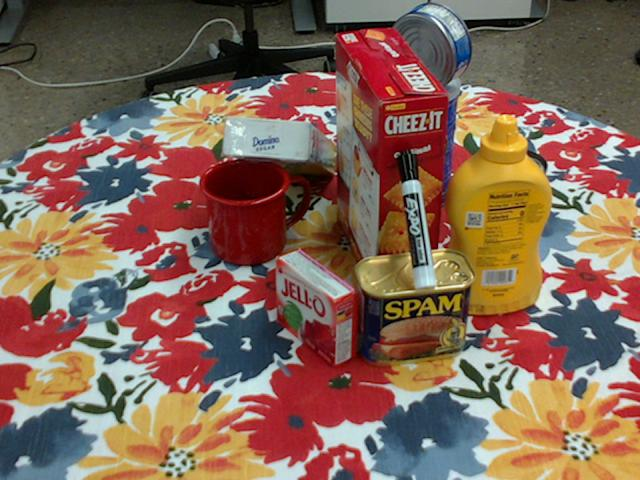cracker_box: (334, 30, 447, 302)
gelatin_box: (276, 247, 359, 365)
large_marker: (395, 149, 438, 288)
master_chef_can: (362, 62, 459, 216)
mug: (200, 158, 312, 265)
mustard_bottle: (439, 115, 552, 315)
potted_meat_can: (356, 249, 477, 366)
sugar_box: (223, 117, 337, 177)
tomato_soup_can: (471, 147, 547, 264)
tuna_fish_can: (386, 4, 470, 91)
